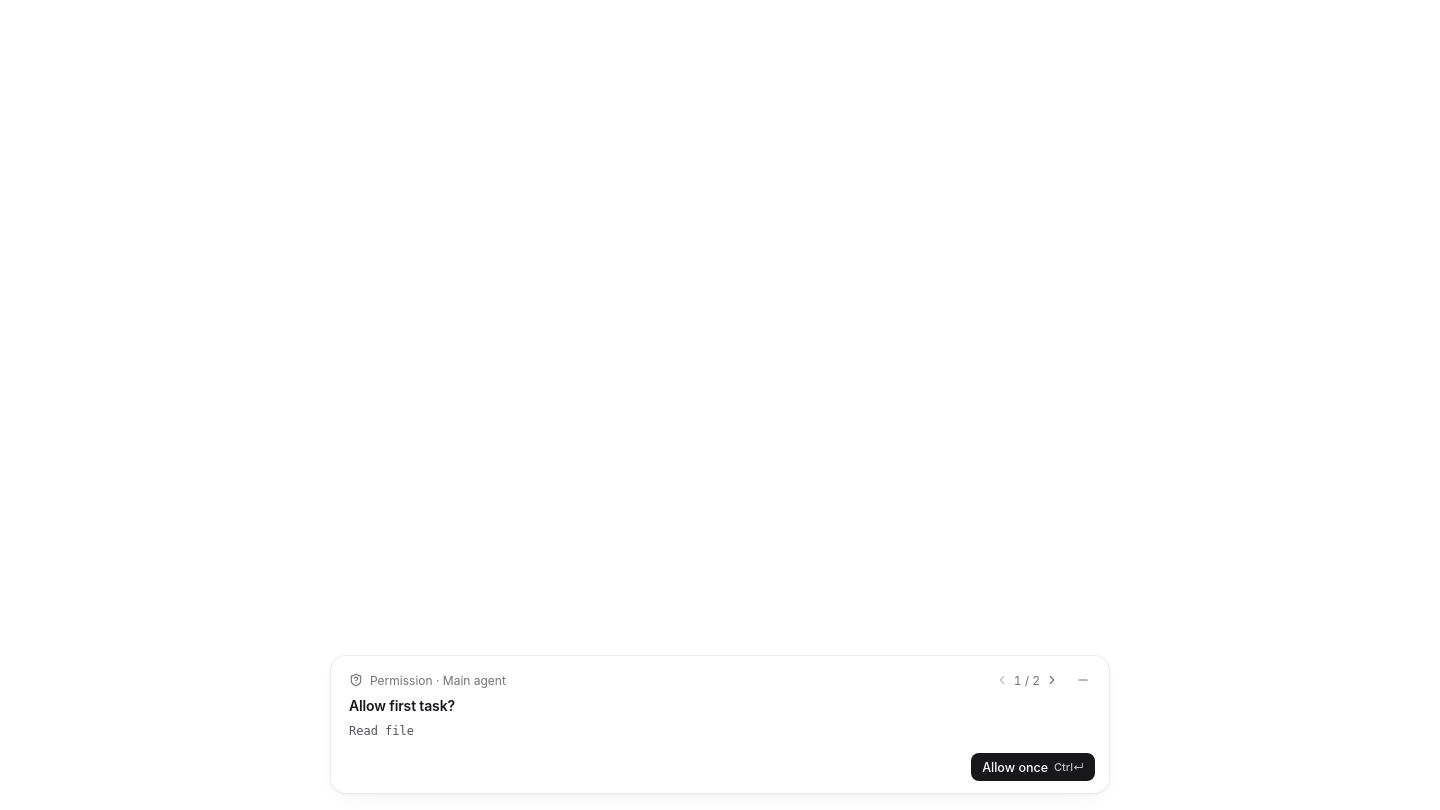
Test: collapses to its title row and expands back without losing the request
Later steps or results of the test are not shown.
Click the button named "Collapse approval". click: (1083, 680)
box: [1071,668,1095,692]
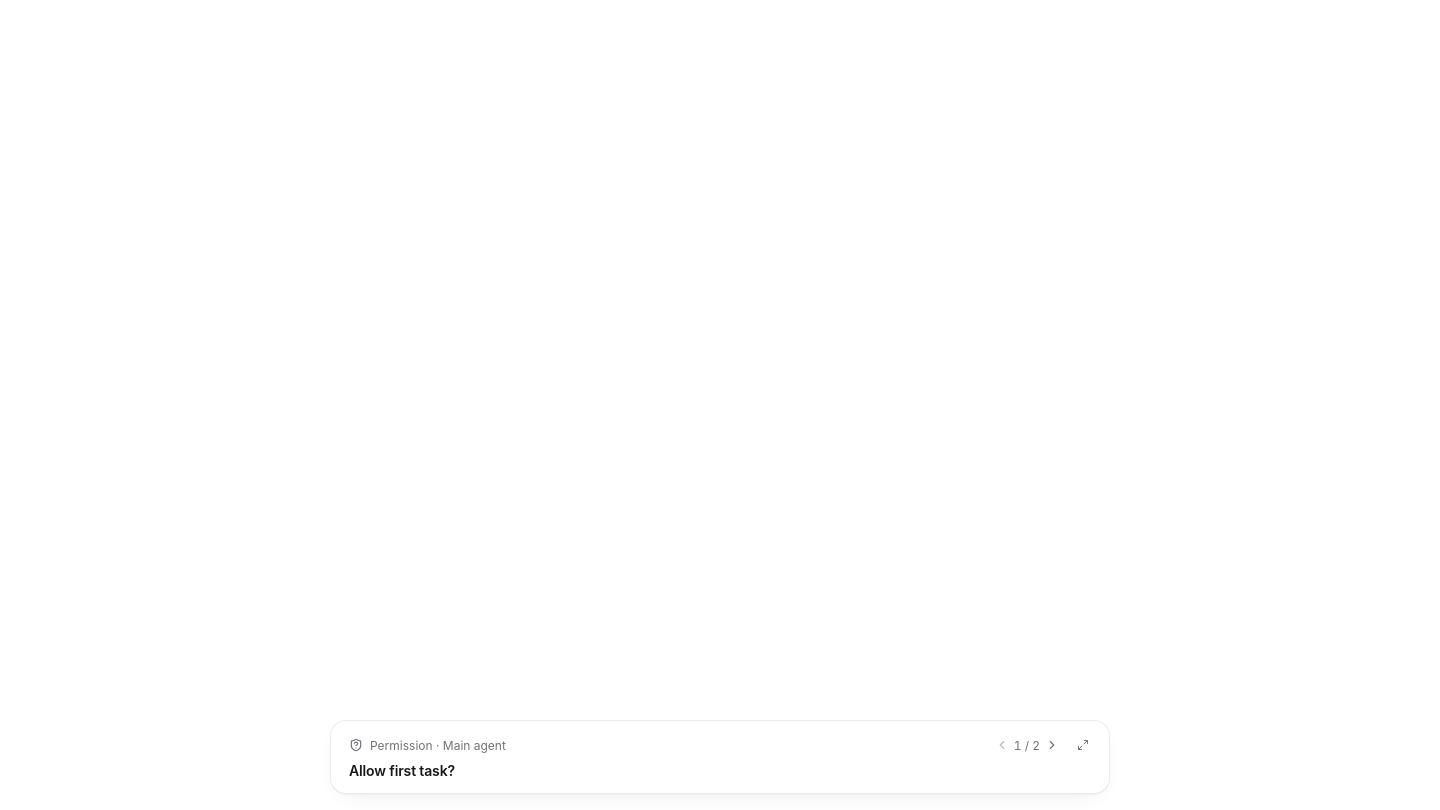
Expected: the heading "Allow first task?" is shown, [349,762,455,779]
Now the footer with class "ohb-permission-actions" is gone
